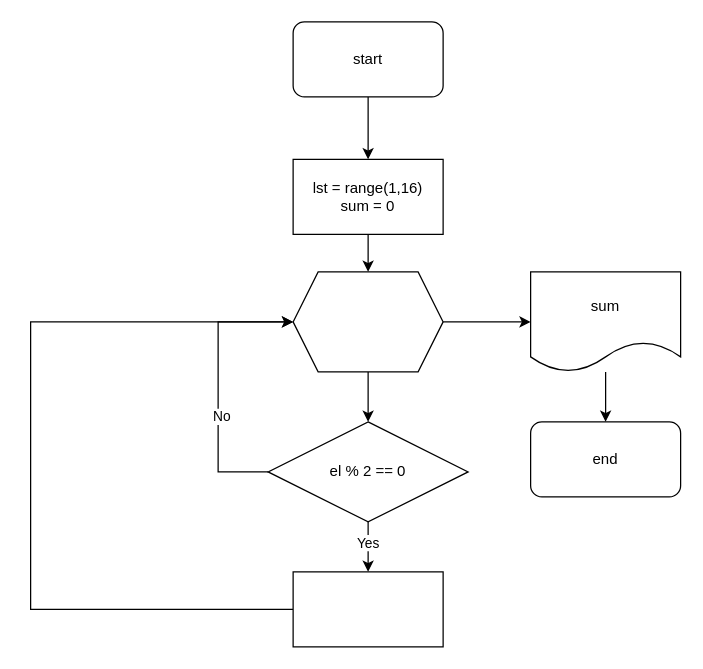
Image size: 703x669. Some labels were removed from this diagram. The shapes that lost their labels are listed below. From the top down, each one's box as (x1, y1, x2, y2) in pixels, then its label:
(292, 271, 443, 372): for el in lst
(292, 571, 443, 647): sum += el
